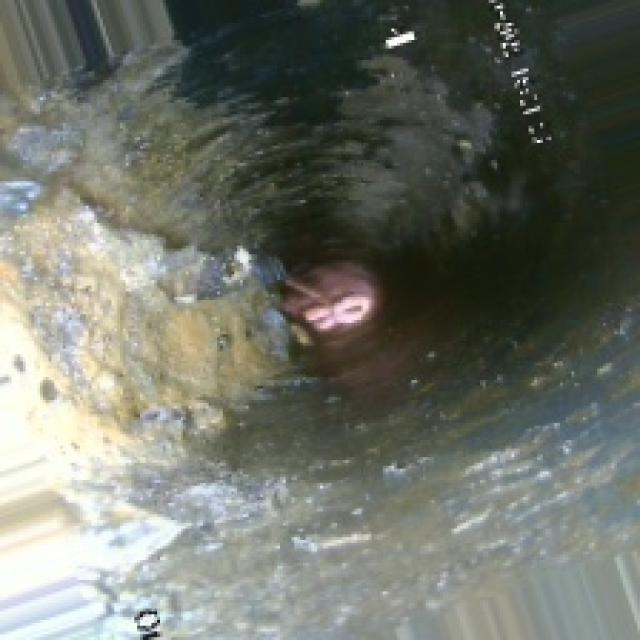sluge accumulation: (20, 157, 286, 557)
